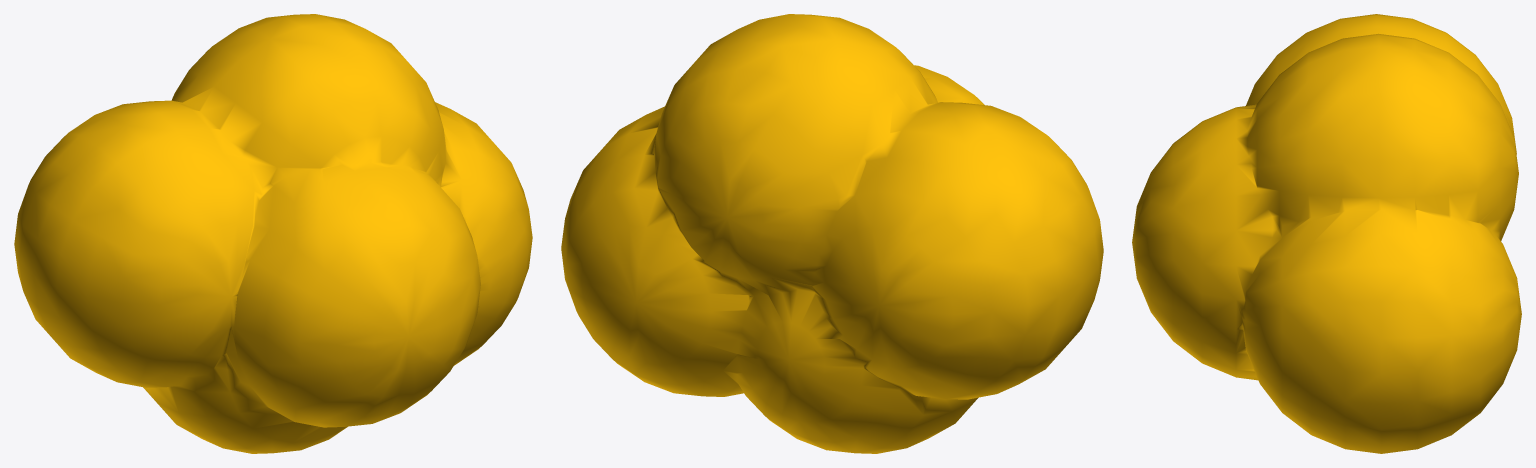
File: explosion_2.dae
The picture shows the model from 3 angles, left to right: view 1: azimuth 30°, elevation 25°; view 2: azimuth 150°, elevation 25°; view 3: azimuth 270°, elevation 25°; orthographic projection. The views are drawn at different scales.
Parts seen in each view (by area): view 1: coords_ME_ID3_MA_Explosion; view 2: coords_ME_ID3_MA_Explosion; view 3: coords_ME_ID3_MA_Explosion.
Part boxes in pixels (box(x1,y1,x2,y2)): coords_ME_ID3_MA_Explosion: box(14, 14, 532, 453); coords_ME_ID3_MA_Explosion: box(561, 14, 1103, 453); coords_ME_ID3_MA_Explosion: box(1132, 14, 1521, 453).
Size of the model in its own units: 70.93 by 55.56 by 51.16.
